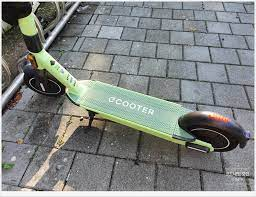kick_wheel: (188, 110, 246, 151), (24, 67, 64, 94)
